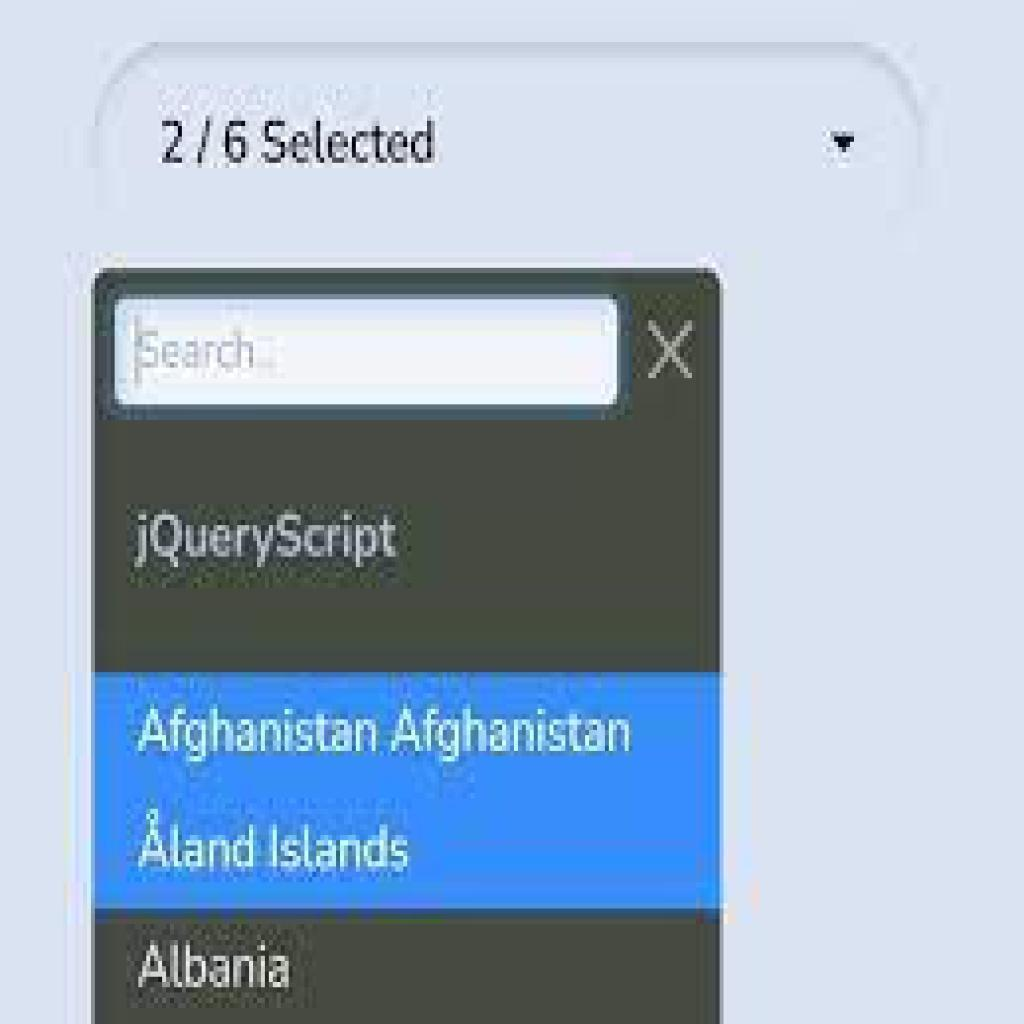button: (93, 675, 723, 908)
dropdown: (93, 38, 927, 249)
icon: (637, 310, 704, 395)
input: (113, 299, 618, 409)
